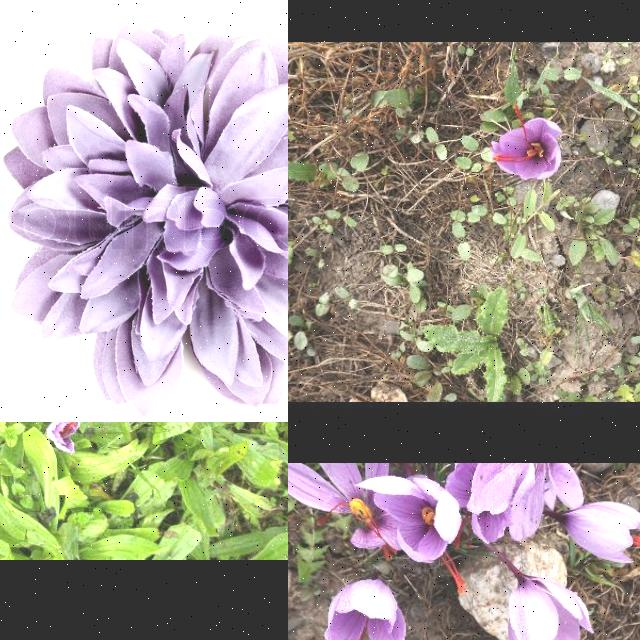flower: (357, 474, 467, 594), (507, 564, 595, 640), (491, 104, 564, 180), (555, 500, 640, 564), (323, 574, 405, 640), (47, 422, 81, 454)
overlap: (288, 463, 585, 561)
